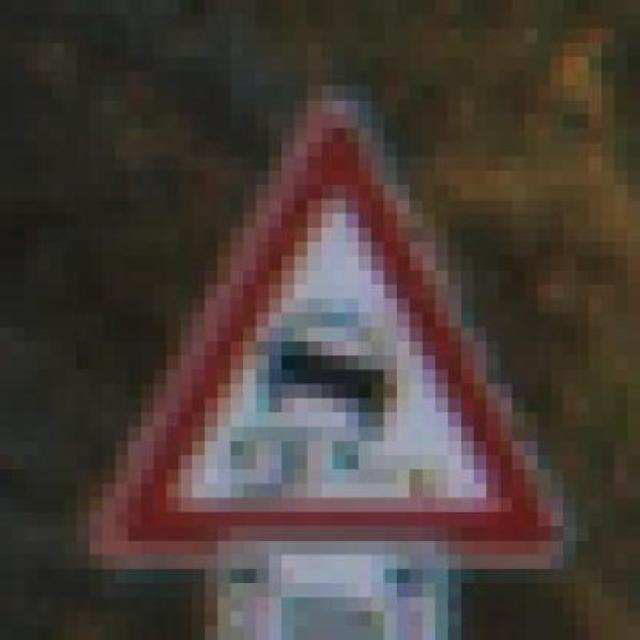Slippery Road Ahead: (51, 71, 602, 583)
